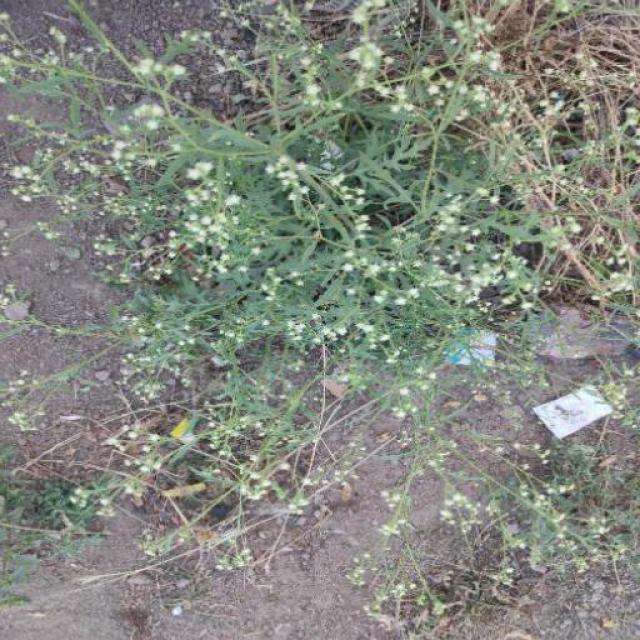weed: (115, 1, 640, 376)
